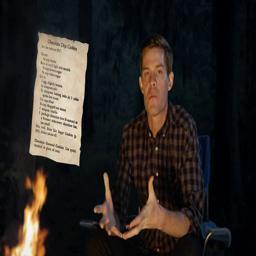fire: (4, 167, 49, 256)
